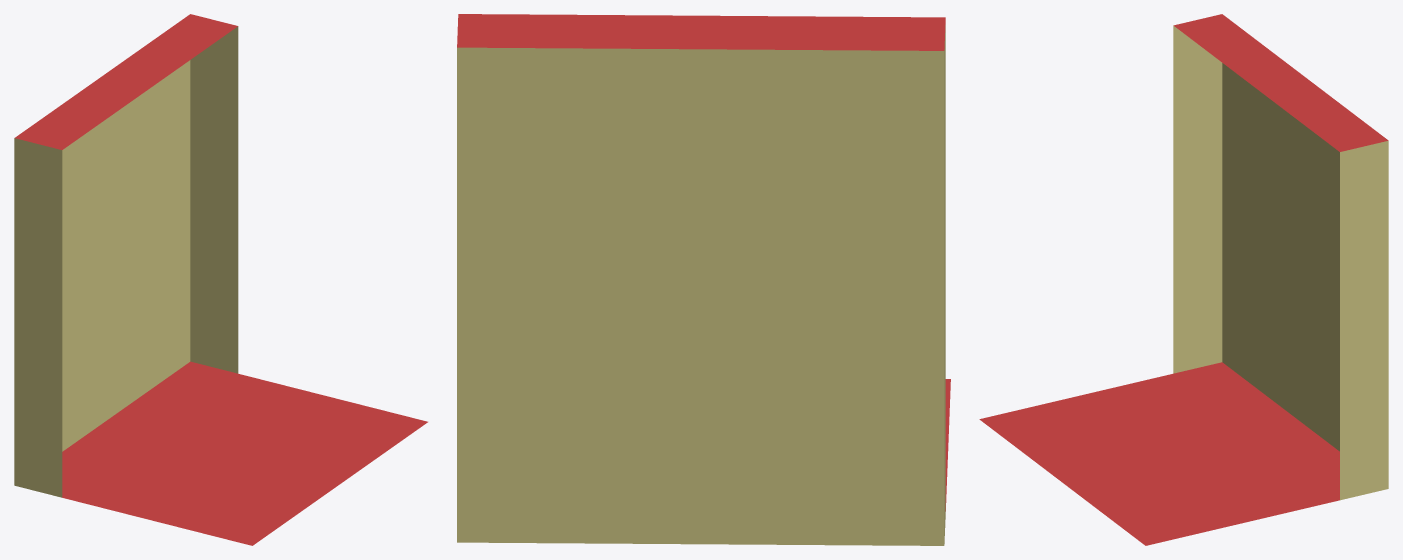
3 views of the same model, side by side, from view 1: azimuth 30°, elevation 25°; view 2: azimuth 150°, elevation 25°; view 3: azimuth 270°, elevation 25° (orthographic). The views are drawn at different scales.
Size of the model in its own units: 5.62 by 5.3 by 4.97.
